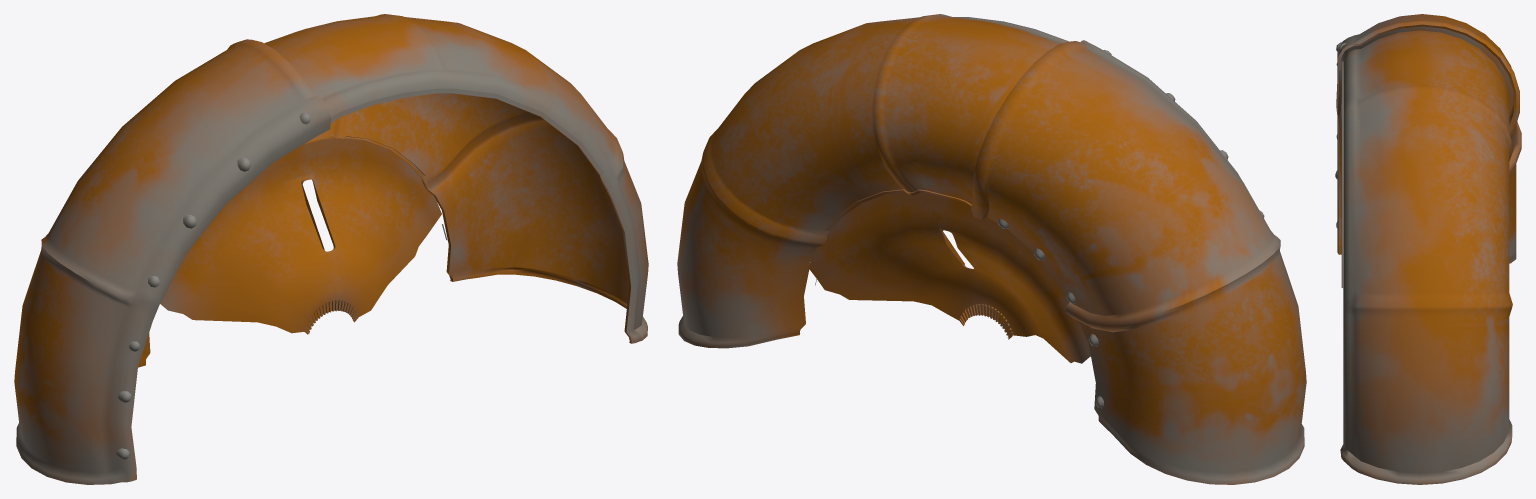
Rendered from wheel_cover_L_B.dae.
3 views of the same model, side by side, from view 1: azimuth 30°, elevation 25°; view 2: azimuth 150°, elevation 25°; view 3: azimuth 270°, elevation 25° (orthographic). The views are drawn at different scales.
Visible parts, largest first — view 1: ApolloRoverRig__1.001_2; view 2: ApolloRoverRig__1.001_2; view 3: ApolloRoverRig__1.001_2.
Boxes of the visible parts, left/top/right/bottom form: ApolloRoverRig__1.001_2: left=14, top=14, right=648, bottom=484; ApolloRoverRig__1.001_2: left=677, top=14, right=1306, bottom=484; ApolloRoverRig__1.001_2: left=1335, top=14, right=1521, bottom=484.
Size of the model in its own units: 0.8381 by 0.2534 by 0.4796.
1 material, 1 textured.
